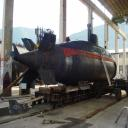submarine: (10, 33, 120, 87)
